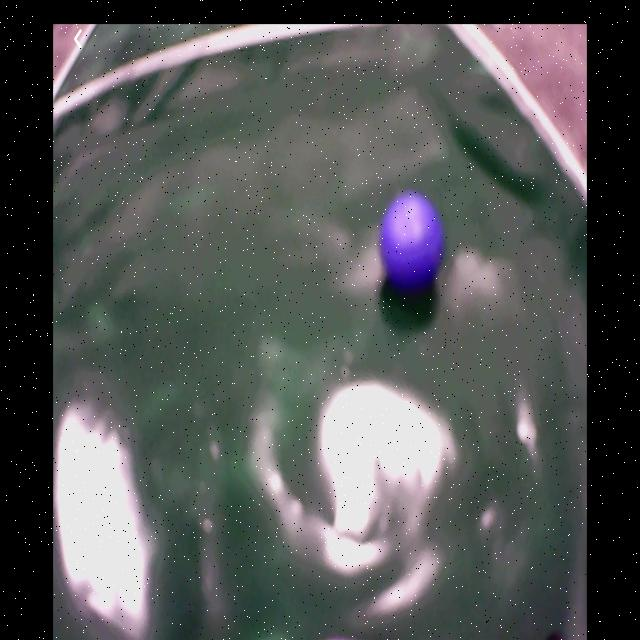ball: (381, 189, 445, 291)
